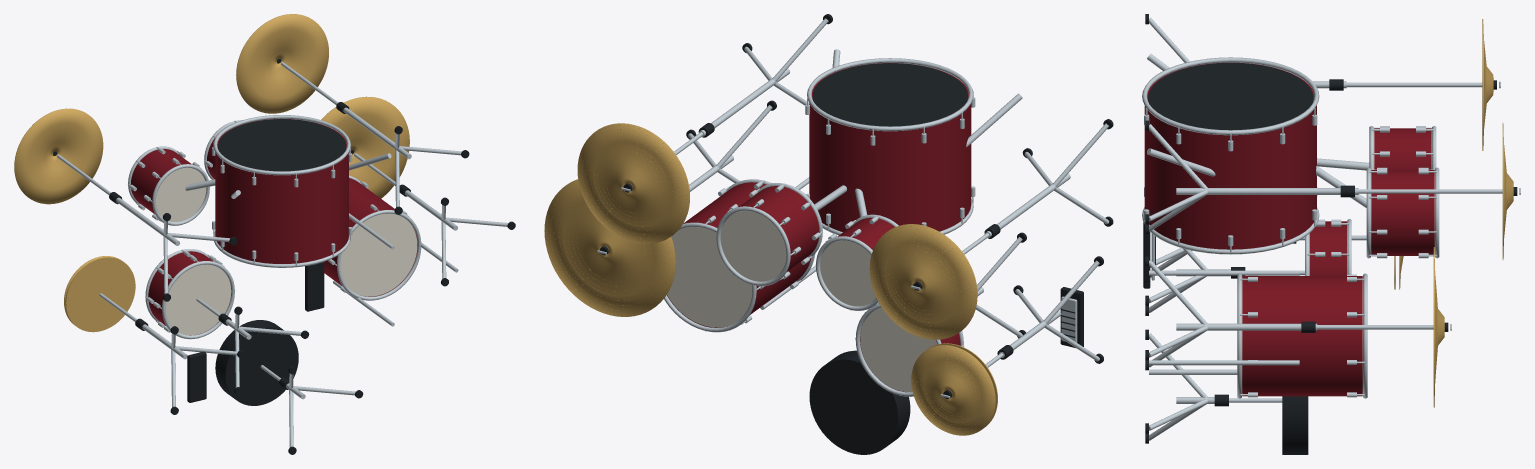
Rendered from Drumkit.fbx.
The picture shows the model from 3 angles, left to right: view 1: azimuth 30°, elevation 25°; view 2: azimuth 150°, elevation 25°; view 3: azimuth 270°, elevation 25°; orthographic projection. The views are drawn at different scales.
Visible parts, largest first — view 1: Kick shell, Crash2, Crash1, Kick head.001, FloorTom head, Throne cushion, Ride, HiHat lower plate, Snare head, Tom1 head, Tom1 shell, Kick hoop.001 (+8 smaller); view 2: Kick shell, Crash2, Ride, Crash1, Kick head.001, Throne cushion, HiHat, FloorTom head.001, Tom2 head.001, Snare head.001, Tom1 head.001, Tom2 shell (+11 smaller); view 3: Kick shell, FloorTom shell, Kick head.001, Tom2 shell, Kick hoop.001, Tom1 shell, Snare shell, Throne cushion, Crash2 stand lower, Kick hoop, Ride stand lower, Floor tom leg (+16 smaller).
Boxes of the visible parts, x1,y1,x2,y2 form: Kick shell: (215,119,348,263); Crash2: (236,14,328,113); Crash1: (14,108,103,204); Kick head.001: (218,119,346,171); FloorTom head: (340,213,417,296); Throne cushion: (215,320,298,405); Ride: (321,96,409,198); HiHat lower plate: (65,257,135,332); Snare head: (165,264,231,335); Tom1 head: (156,168,206,221); Tom1 shell: (130,149,191,213); Kick hoop.001: (213,115,350,175); Kick shell: (809,63,971,231); Crash2: (577,123,689,243); Ride: (544,179,675,316); Crash1: (869,224,977,339); Kick head.001: (812,63,967,126); Throne cushion: (809,350,910,454); HiHat: (911,345,995,435); FloorTom head.001: (667,227,752,327); Tom2 head.001: (720,211,786,281); Snare head.001: (860,308,936,392); Tom1 head.001: (820,240,876,306); Tom2 shell: (739,186,819,271); Kick shell: (1144,62,1316,249); FloorTom shell: (1242,276,1362,396); Kick head.001: (1148,62,1313,130); Tom2 shell: (1371,170,1434,255); Kick hoop.001: (1142,57,1319,135); Tom1 shell: (1374,128,1431,169); Snare shell: (1309,221,1346,275); Throne cushion: (1282,396,1308,454); Crash2 stand lower: (1176,188,1358,194); Kick hoop: (1142,207,1319,254); Ride stand lower: (1176,323,1317,330); Floor tom leg: (1149,360,1299,365).
Size of the model in its own units: 195 by 152 by 132.
